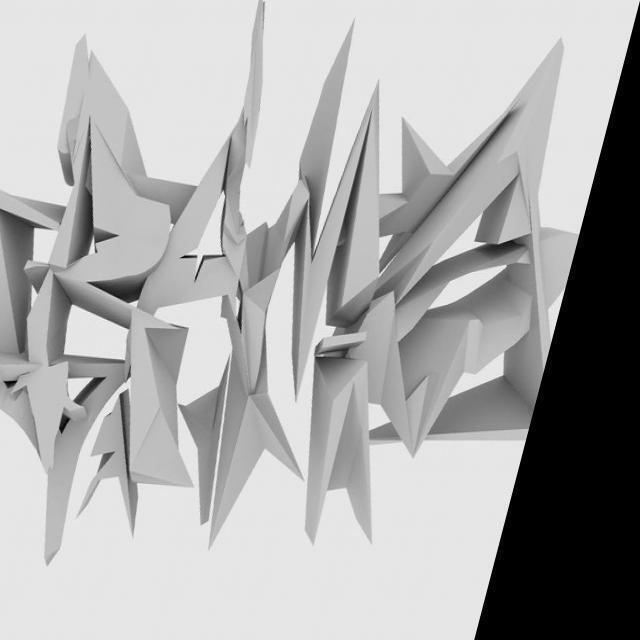nonspitting: (0, 0, 579, 564)
